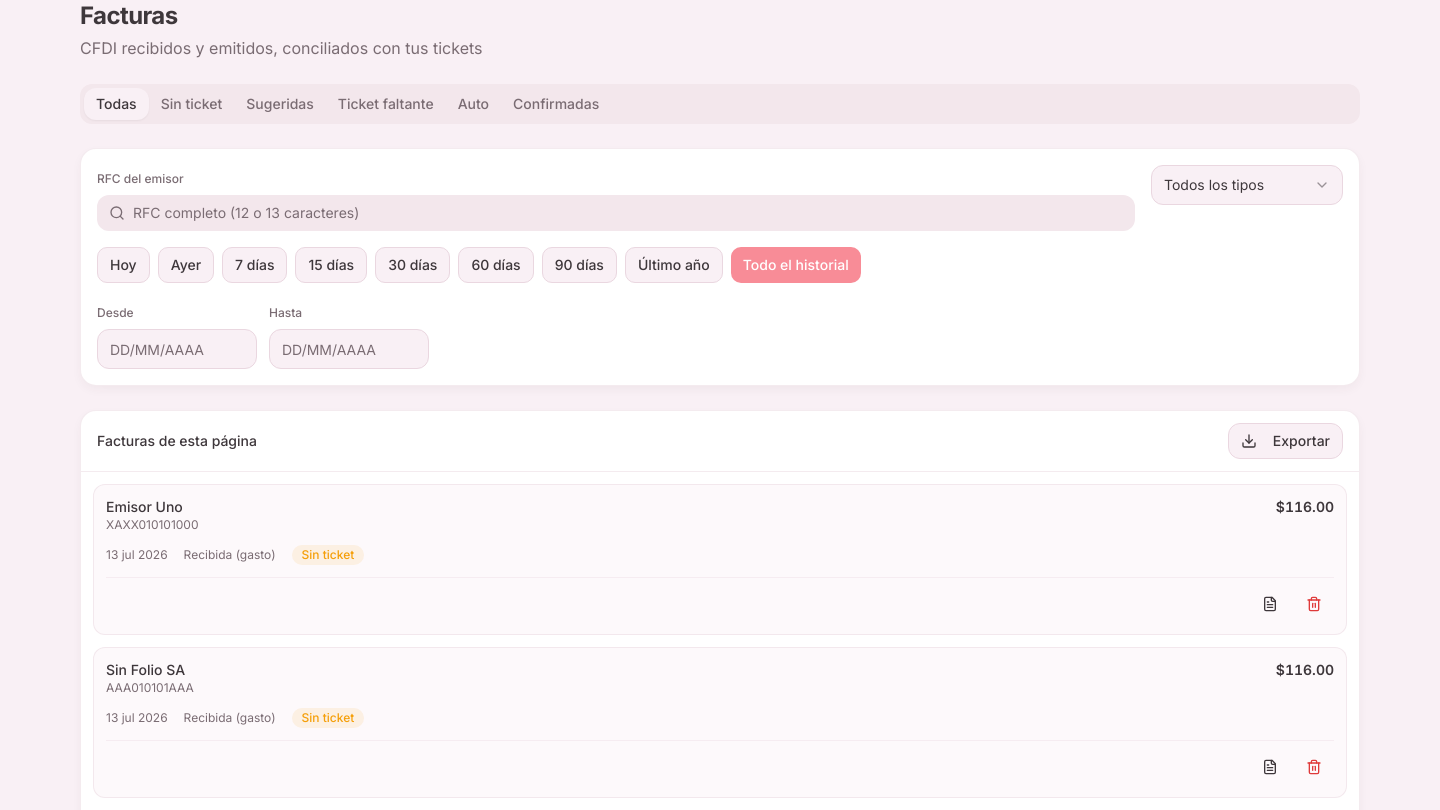
Test: InvoicesPage inventory and UUID safety › shows detail error with retry instead of silent success
Click the text "Emisor Uno" at (144, 506), box [106,498,183,515]
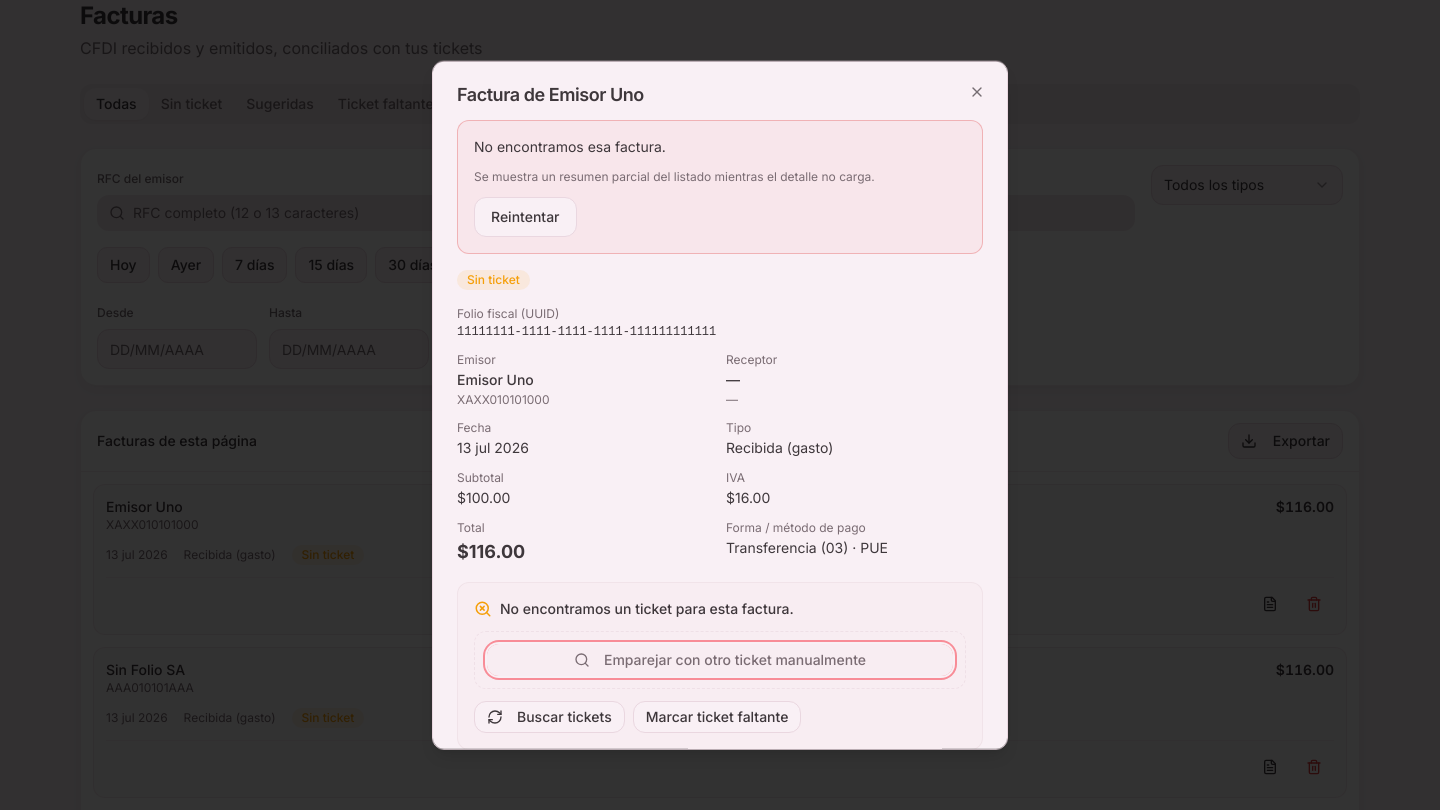
Check: the message is shown, box [457,120,983,254]
Check: the text "No encontramos esa factura." is shown, box [474,138,666,155]
Check: the button "Reintentar" is shown, box [474,197,576,237]
